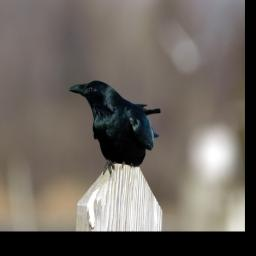Crow: (69, 81, 161, 175)
